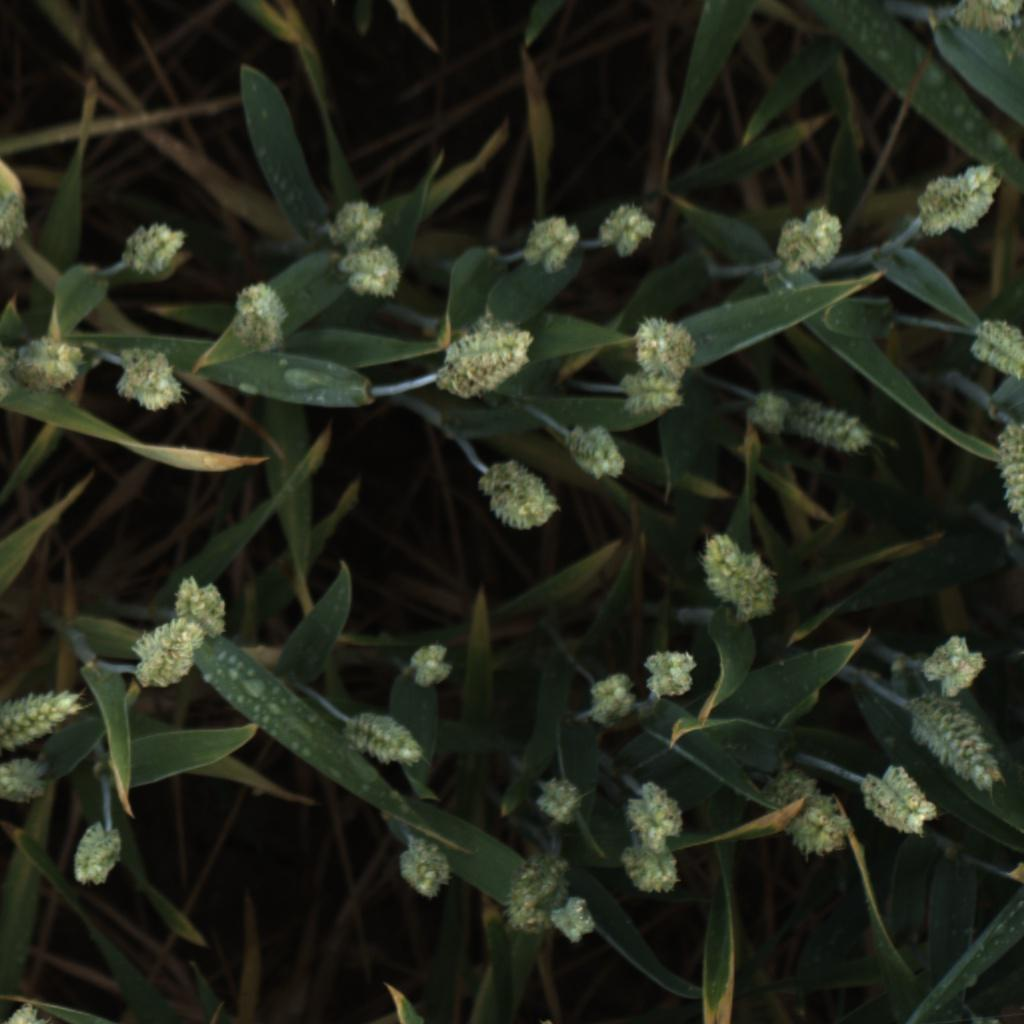0-0: (898, 694, 1010, 792), (434, 314, 535, 399), (913, 156, 1008, 246), (764, 762, 850, 860), (697, 532, 788, 624), (772, 387, 880, 464), (502, 850, 577, 942), (475, 450, 560, 531), (859, 760, 944, 839), (127, 615, 209, 693), (770, 201, 848, 282), (112, 340, 190, 418), (0, 684, 85, 755), (223, 275, 293, 355), (343, 712, 430, 773), (627, 309, 703, 378), (918, 625, 987, 698), (517, 204, 585, 276), (116, 219, 192, 283), (12, 335, 88, 395), (963, 314, 1024, 388), (592, 197, 662, 261), (65, 819, 128, 889), (640, 643, 707, 708), (336, 244, 411, 302), (560, 418, 627, 482), (613, 368, 688, 422), (167, 572, 231, 635), (993, 421, 1024, 551), (395, 836, 456, 902), (622, 783, 684, 847), (619, 844, 682, 904), (527, 769, 591, 828), (583, 667, 642, 731), (741, 379, 800, 443), (324, 194, 389, 249), (544, 891, 602, 949), (401, 637, 458, 692), (0, 755, 51, 809), (945, 0, 1024, 34), (0, 179, 31, 257), (0, 996, 51, 1024), (1001, 13, 1024, 75), (0, 338, 19, 408)
